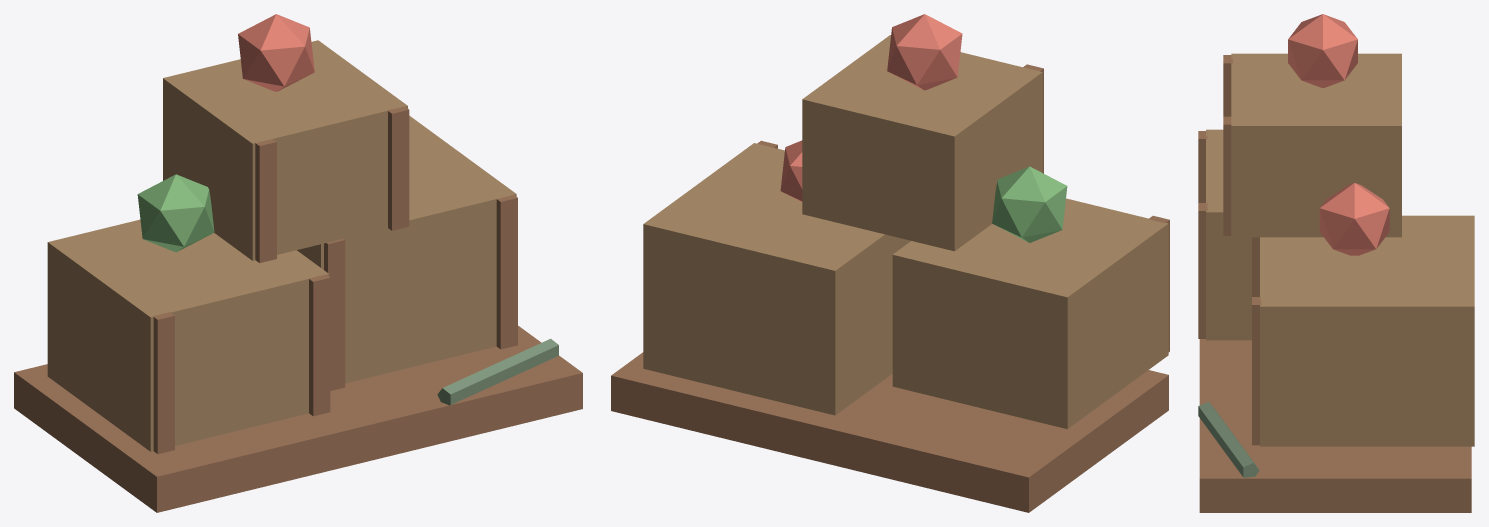
The model's file is market_crates.glb.
3 renders of one model, left to right at view 1: azimuth 30°, elevation 25°; view 2: azimuth 150°, elevation 25°; view 3: azimuth 270°, elevation 25°, orthographic. The views are drawn at different scales.
Parts seen in each view (by area): view 1: crate_0, stand, crate_2, crate_1, produce_0, produce_3, slat_1_1, slat_0_0, slat_0_1, slat_2_1, slat_2_0, slat_1_0 (+1 smaller); view 2: crate_1, crate_0, stand, crate_2, produce_3, produce_0, produce_1; view 3: crate_1, crate_2, stand, crate_0, produce_3, produce_1, rope.003, slat_1_1, slat_0_1, slat_2_1, slat_0_0, slat_2_0 (+1 smaller).
Boxes of the visible parts, x1,y1,x2,y2 form: crate_0: (47,219,329,451); stand: (14,325,582,512); crate_2: (163,40,407,260); crate_1: (297,115,516,383); produce_0: (137,174,214,252); produce_3: (238,14,314,91); slat_1_1: (496,195,517,349); slat_0_0: (153,312,174,453); slat_0_1: (309,274,330,416); slat_2_1: (387,106,409,230); slat_2_0: (255,139,276,262); slat_1_0: (324,238,345,390); crate_1: (643,143,910,415); crate_0: (892,198,1168,429); stand: (611,352,1168,512); crate_2: (802,35,1042,251); produce_3: (887,14,962,90); produce_0: (992,166,1067,242); produce_1: (780,140,802,201); crate_1: (1260,215,1474,446); crate_2: (1231,53,1401,237); stand: (1199,339,1471,512); crate_0: (1206,129,1251,340); produce_3: (1288,14,1357,87); produce_1: (1319,183,1389,255); rope.003: (1198,402,1259,477); slat_1_1: (1252,297,1261,445); slat_0_1: (1198,203,1207,338); slat_2_1: (1223,116,1231,235); slat_0_0: (1198,131,1207,202); slat_2_0: (1223,55,1232,116).
Bounding box in the file's own units: 1.49 × 1.35 × 0.875.
